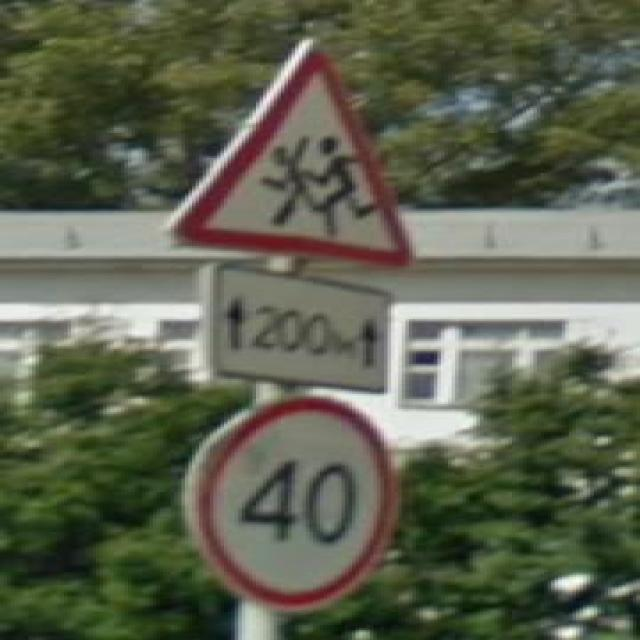Ograniczenie predkosci do 40: (188, 398, 398, 614)
